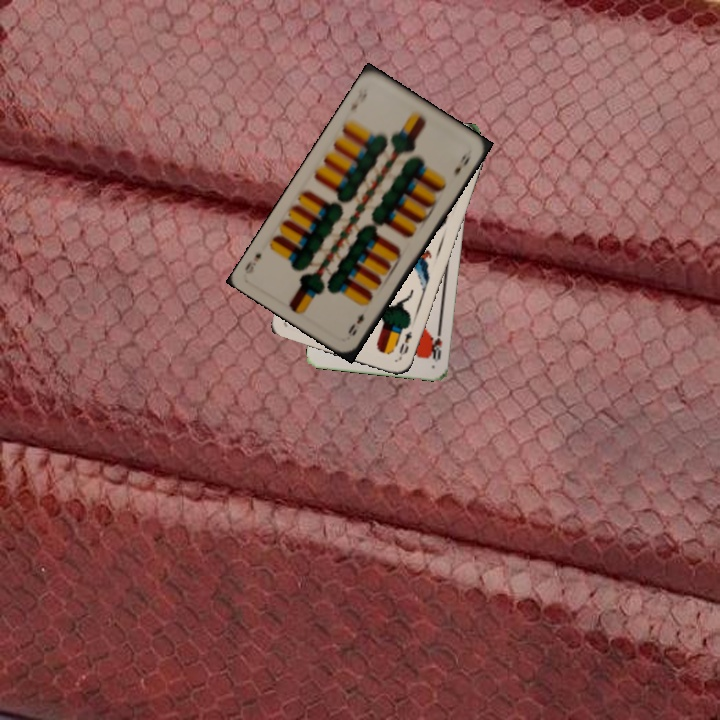E9: (346, 84, 370, 113), (344, 309, 367, 338)
EO: (395, 327, 415, 362)
HO: (430, 325, 444, 364)
